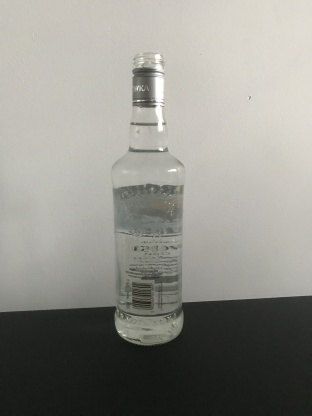nakretka: (129, 51, 166, 108)
